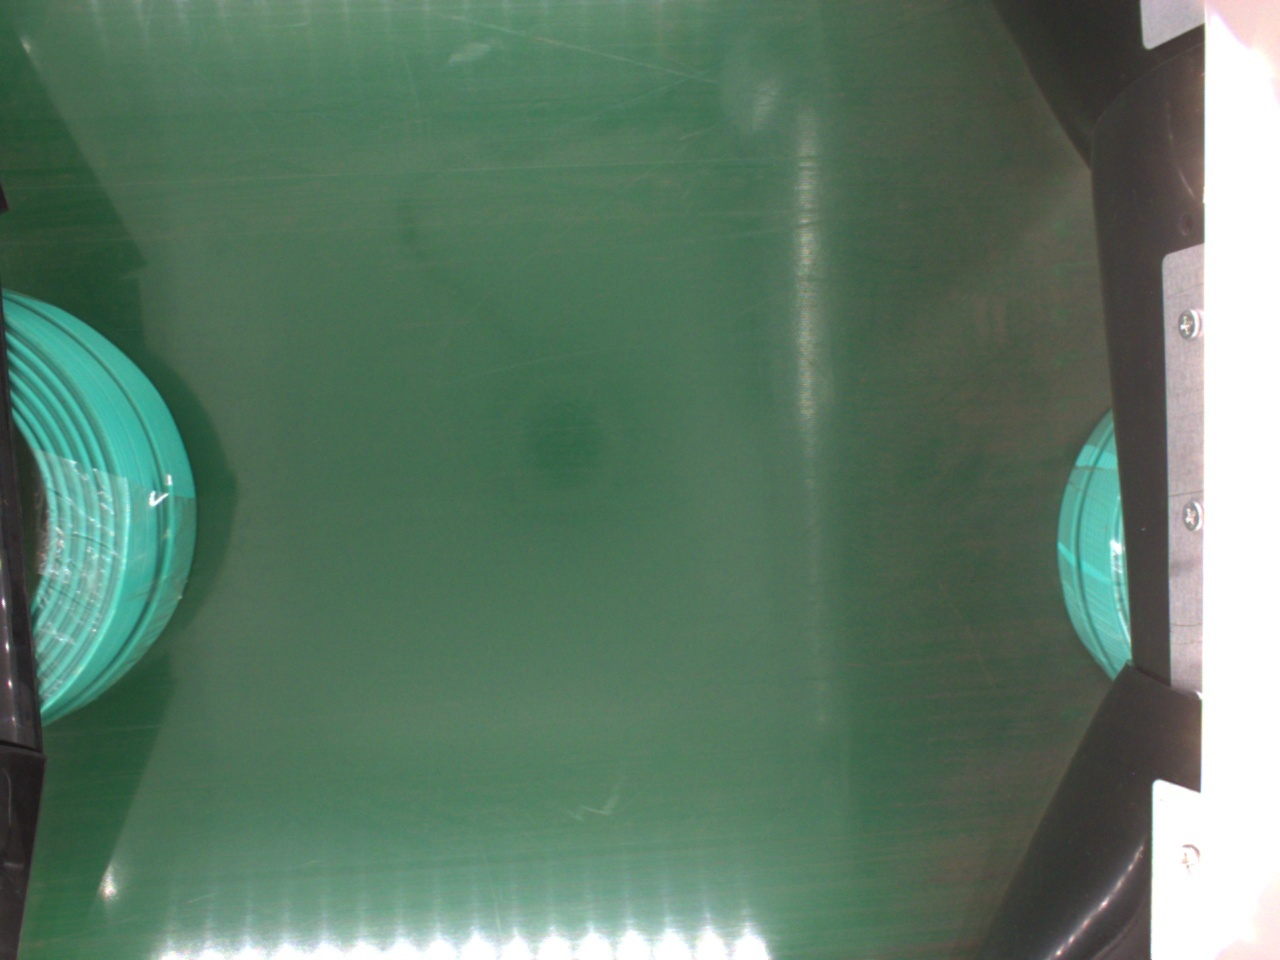green: (3, 286, 193, 731)
